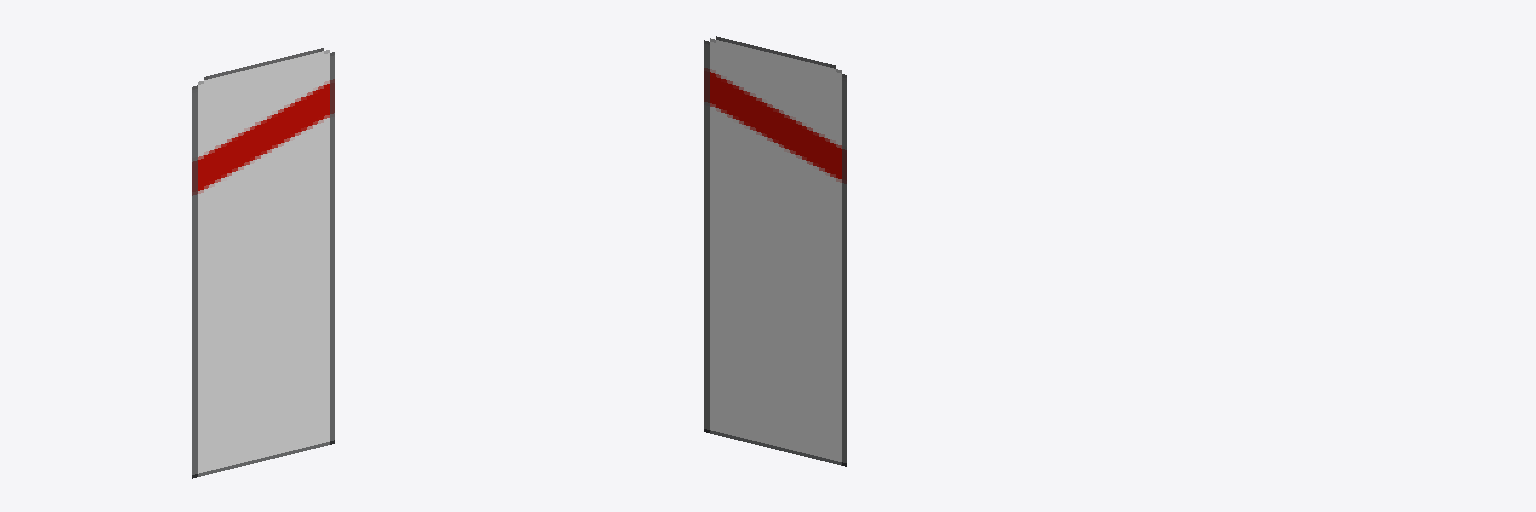
3 views of the same model, side by side, from view 1: azimuth 30°, elevation 25°; view 2: azimuth 150°, elevation 25°; view 3: azimuth 270°, elevation 25° (orthographic).
Visible parts, largest first — view 1: Cube.001; view 2: Cube.001; view 3: none.
Part boxes in pixels (x1,y1,x2,y2): Cube.001: (192,48,334,478); Cube.001: (704,36,846,466).
Bounding box in the file's own units: 0.5 × 1.33 × 0.095.
Materials: 2 (1 with a texture image).